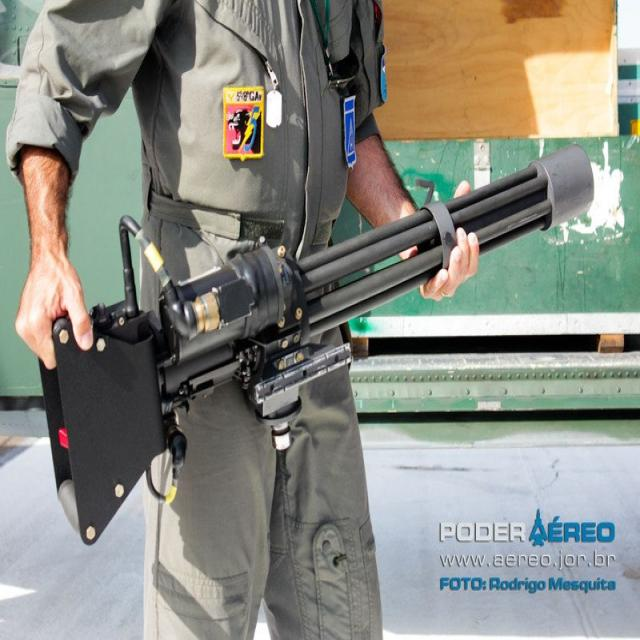firearm: (164, 143, 594, 402)
